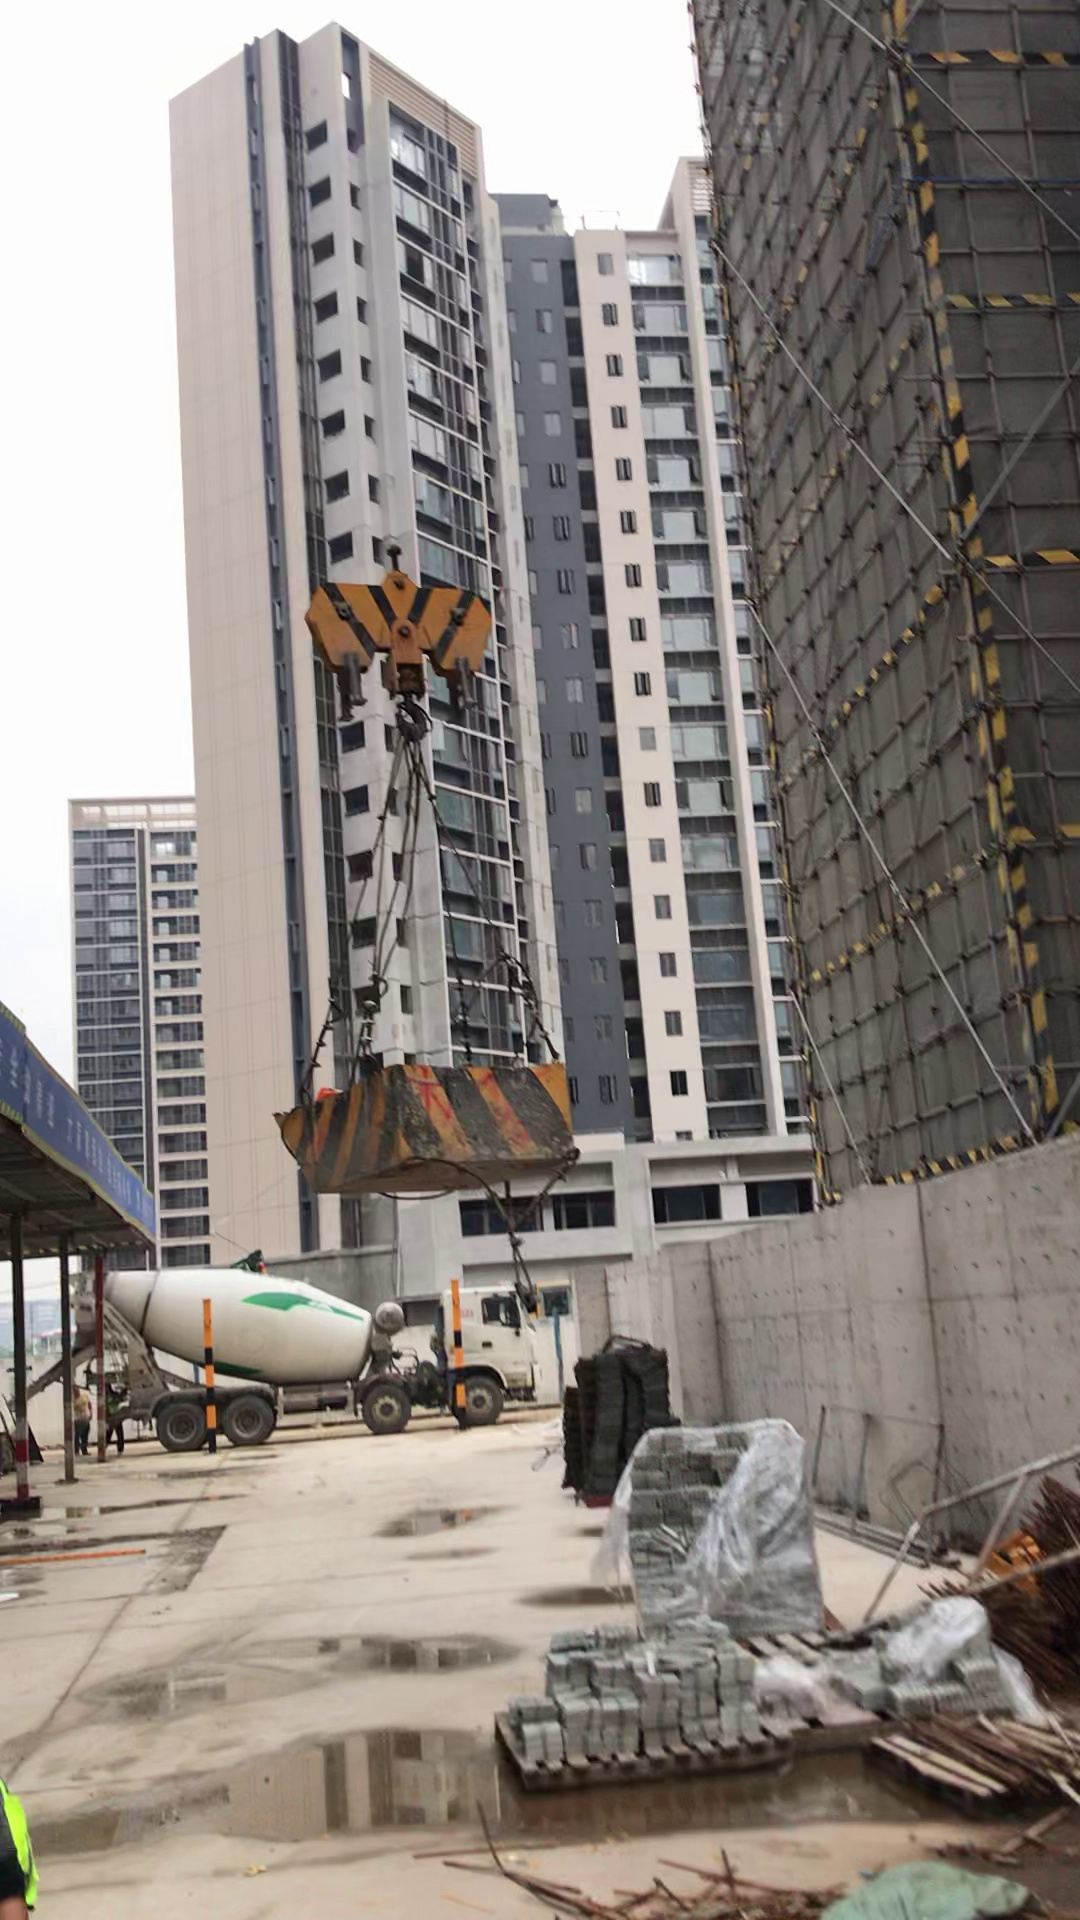hook: (264, 515, 500, 691)
person: (62, 1378, 90, 1451)
